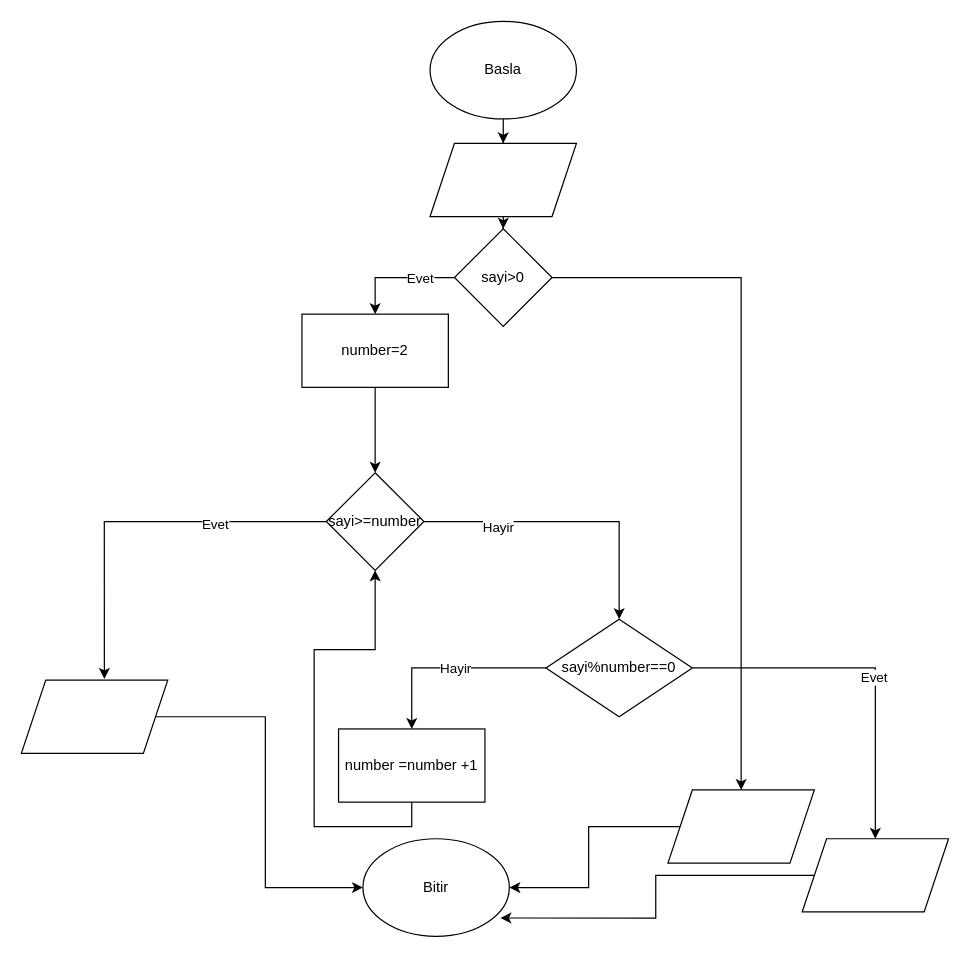
Some shapes in this 970 by 958 pixel diagram are drawn without their labels. The centre of each missing label's shape, as x and y in pixels:
"Asal sayi degildir": (875,875)
"Asal sayidir": (94,716)
negative sayiler yada sifir olmaz: (740,826)
sayi: (502,179)
